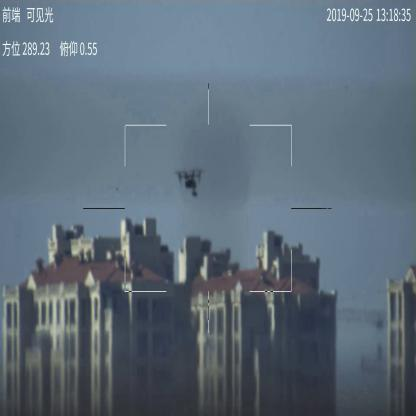uav: (174, 169, 200, 198)
